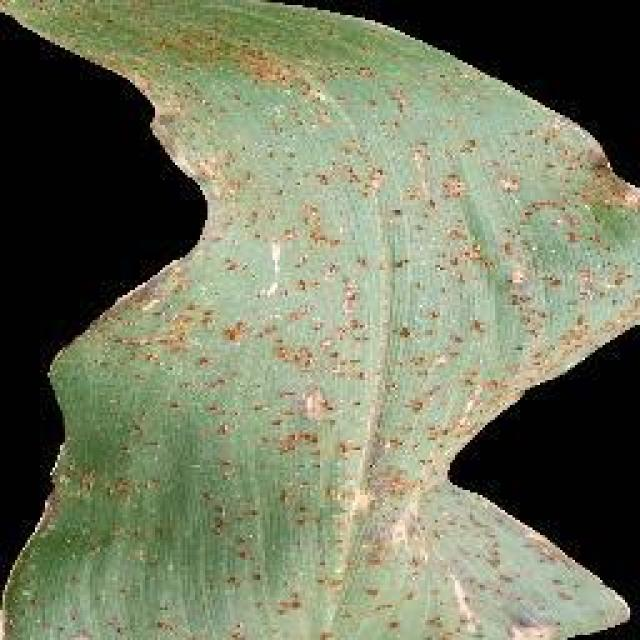Corn Common Rust: (115, 40, 513, 582)
